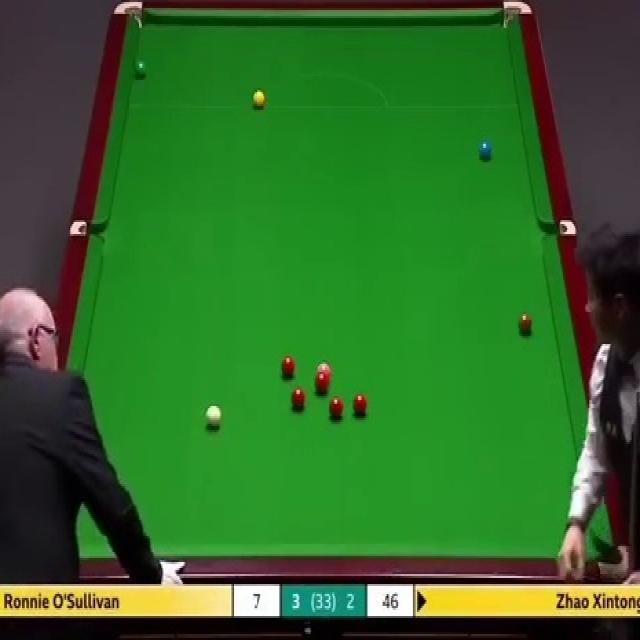pocket: (595, 543, 624, 582), (500, 0, 532, 32), (112, 0, 147, 29), (540, 218, 577, 237), (69, 218, 104, 238)
